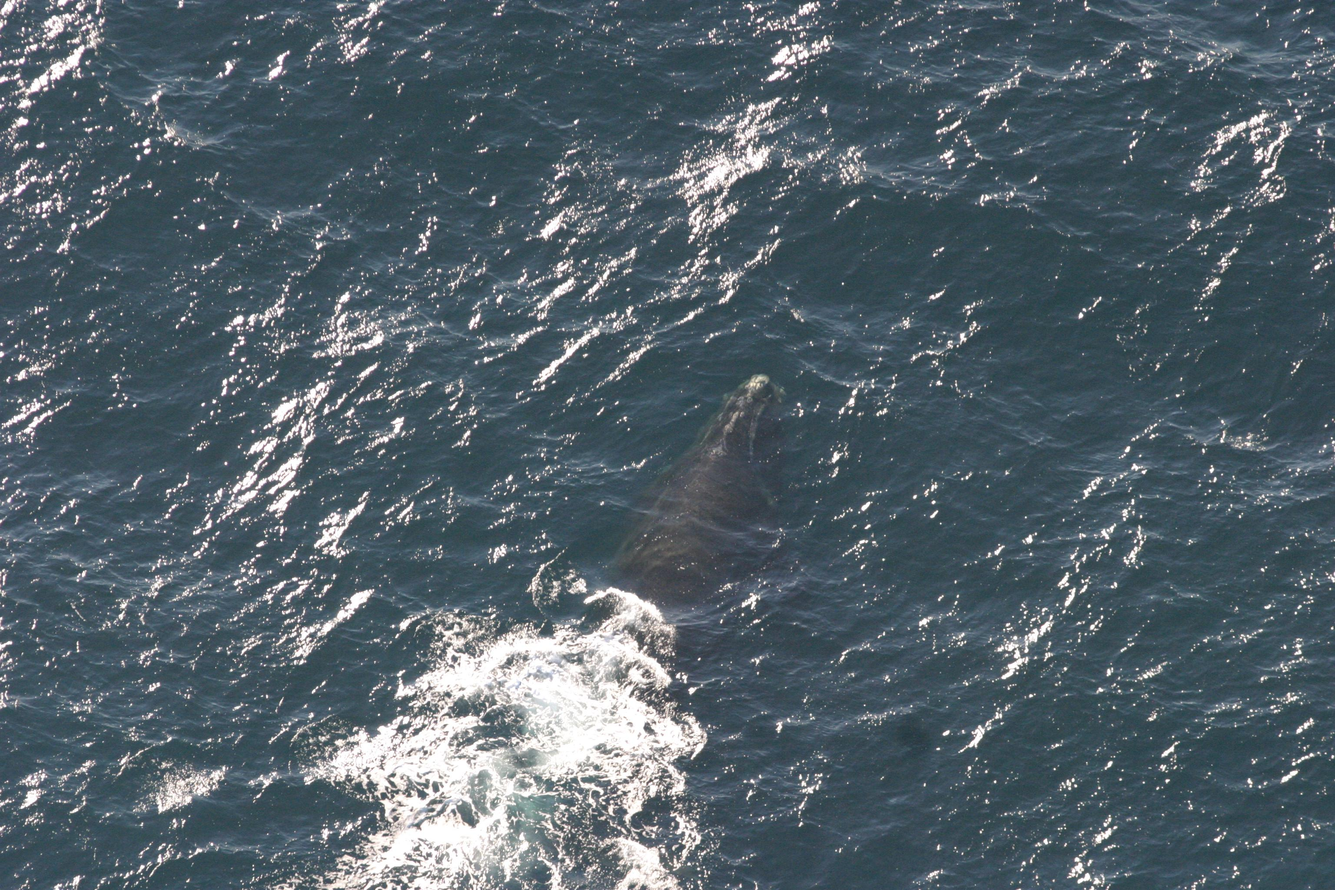whale: (511, 368, 795, 822)
